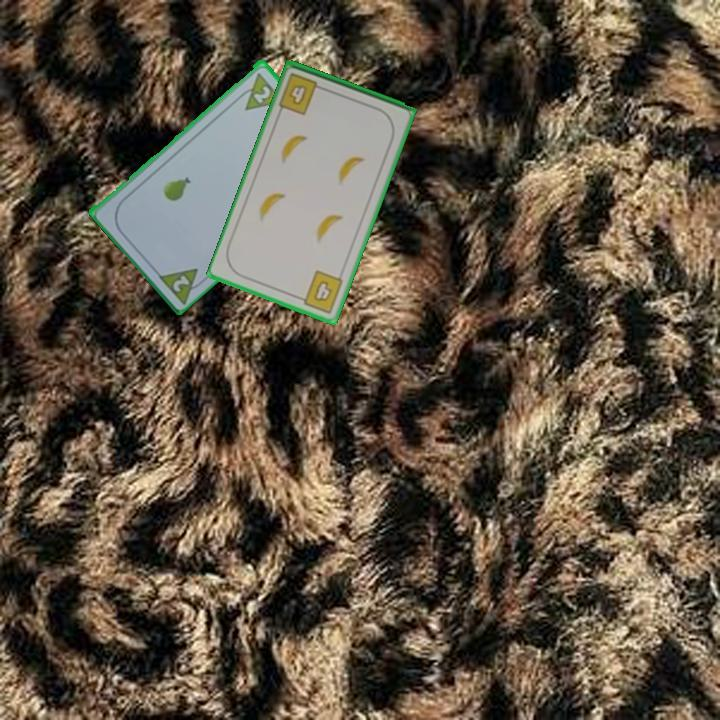2p: (249, 82, 274, 106), (169, 271, 193, 295)
4b: (294, 267, 346, 316), (275, 70, 328, 118)
